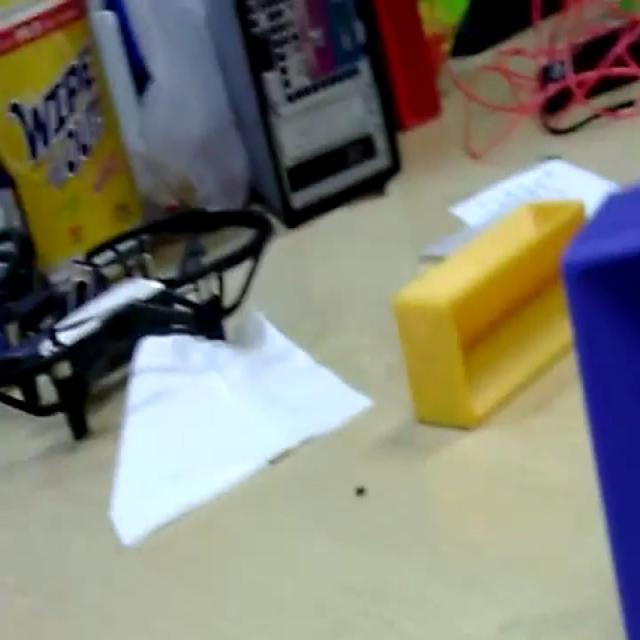blue_block: (559, 180, 638, 635)
yellow_block: (391, 195, 585, 429)
